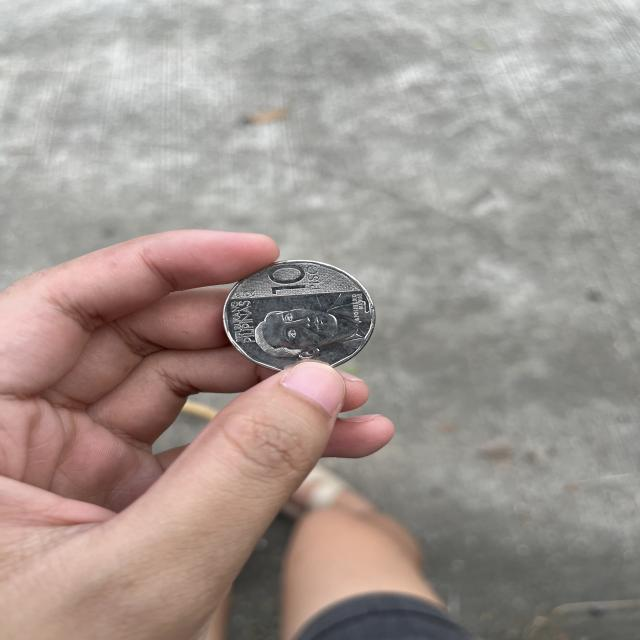10_New_Front: (264, 264, 328, 292)
